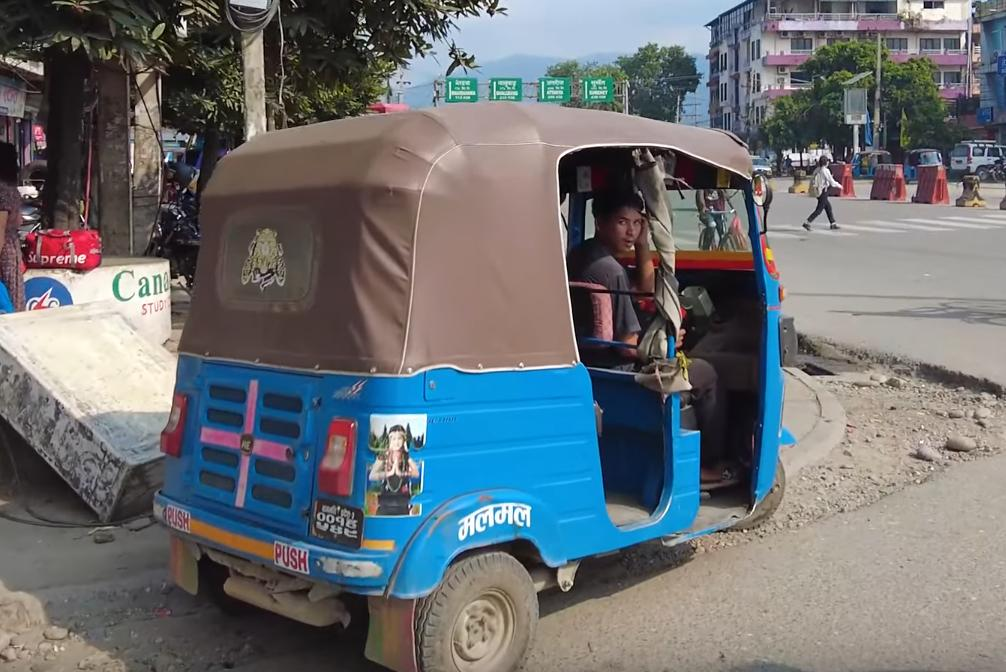SUV: (948, 140, 1006, 183)
auto_rickshaw: (166, 95, 807, 672), (899, 145, 945, 186)
